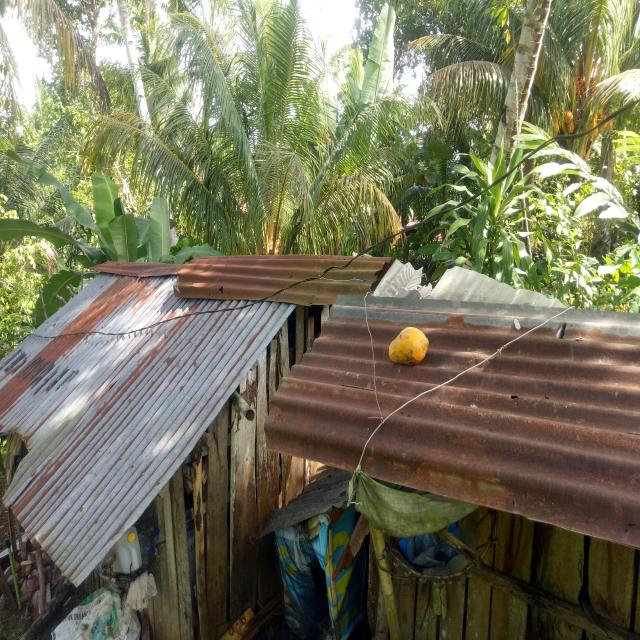Pepaya rippen: (384, 323, 436, 382)
